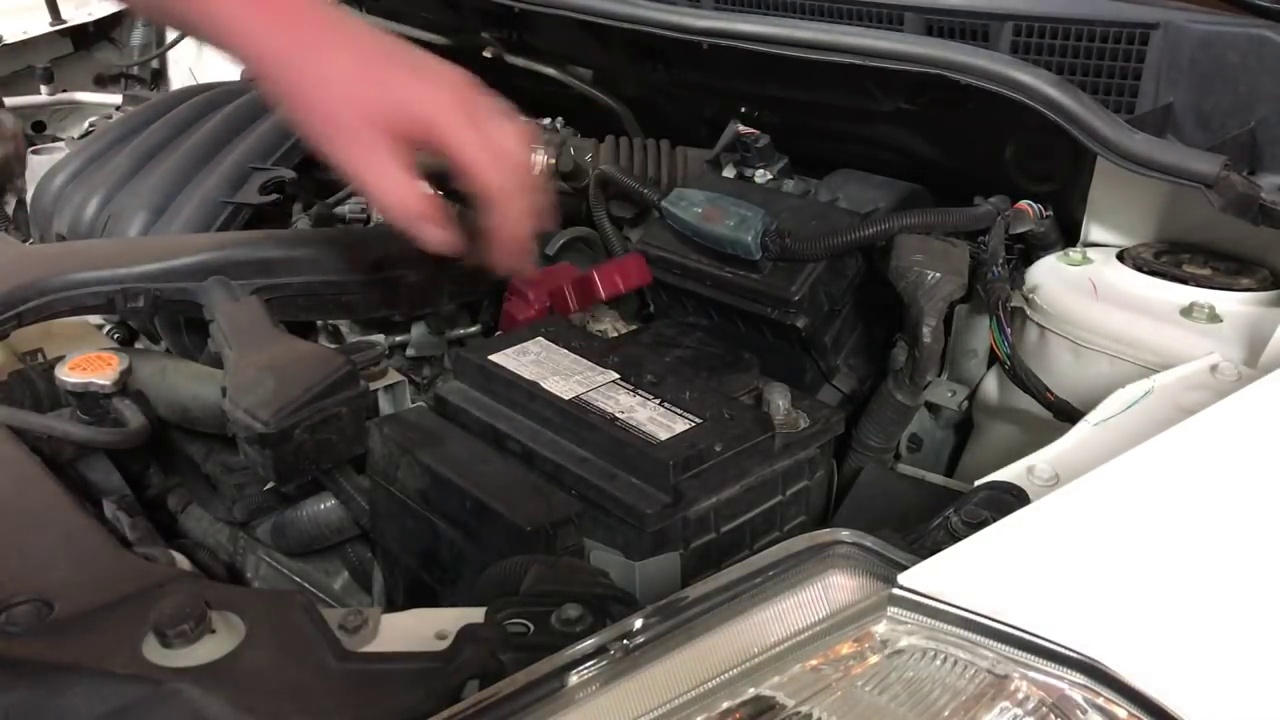battery: (458, 286, 821, 470)
neg_disconnected: (734, 361, 845, 466)
pos_connected: (493, 254, 653, 341)
